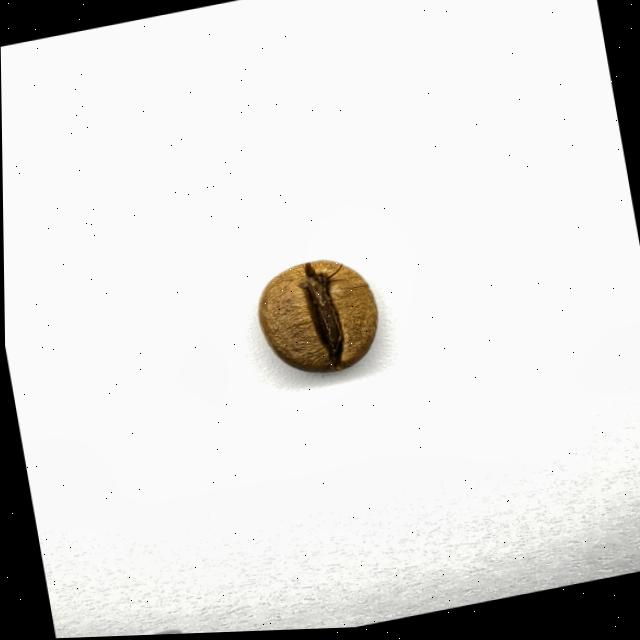Quaker: (250, 252, 387, 387)
